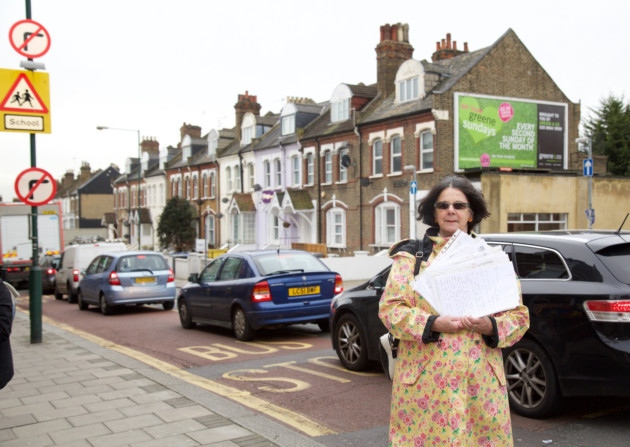No_right_turn: (7, 19, 51, 59), (14, 168, 56, 206)
